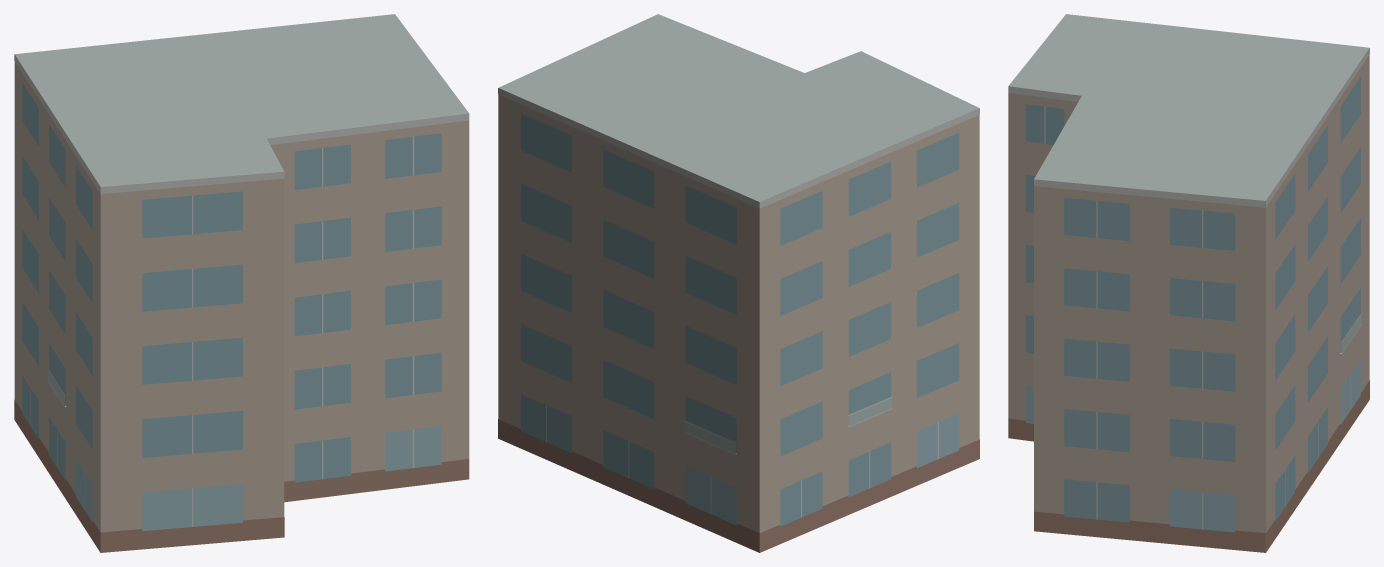
Rendered from survey-upis-32875832.glb.
3 views of the same model, side by side, from view 1: azimuth 30°, elevation 25°; view 2: azimuth 150°, elevation 25°; view 3: azimuth 270°, elevation 25° (orthographic). The views are drawn at different scales.
Visible parts, largest first — view 1: survey-upis-32875832.tmp; view 2: survey-upis-32875832.tmp; view 3: survey-upis-32875832.tmp.
Boxes of the visible parts, bbox=[...] form: survey-upis-32875832.tmp: bbox=[14, 14, 469, 552]; survey-upis-32875832.tmp: bbox=[498, 14, 979, 552]; survey-upis-32875832.tmp: bbox=[1008, 14, 1369, 552].
Bounding box in the file's own units: 14.71 × 12.9 × 12.02.
